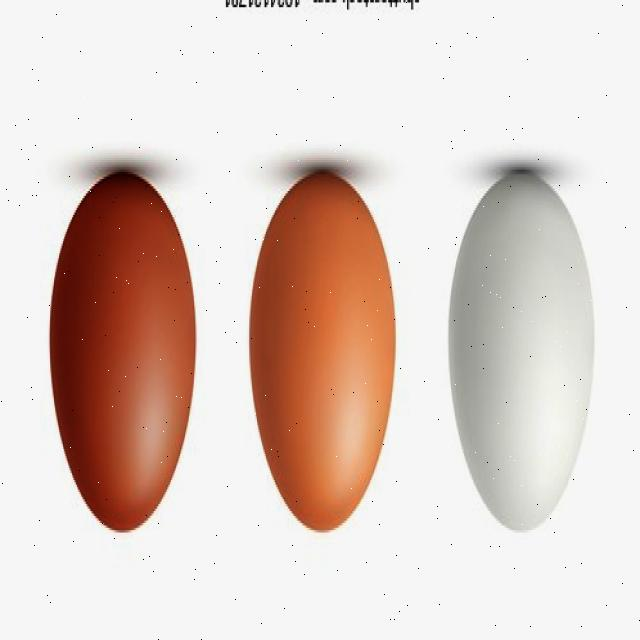Brown Egg: (40, 156, 207, 548), (243, 157, 404, 556)
White Egg: (440, 146, 599, 559)
